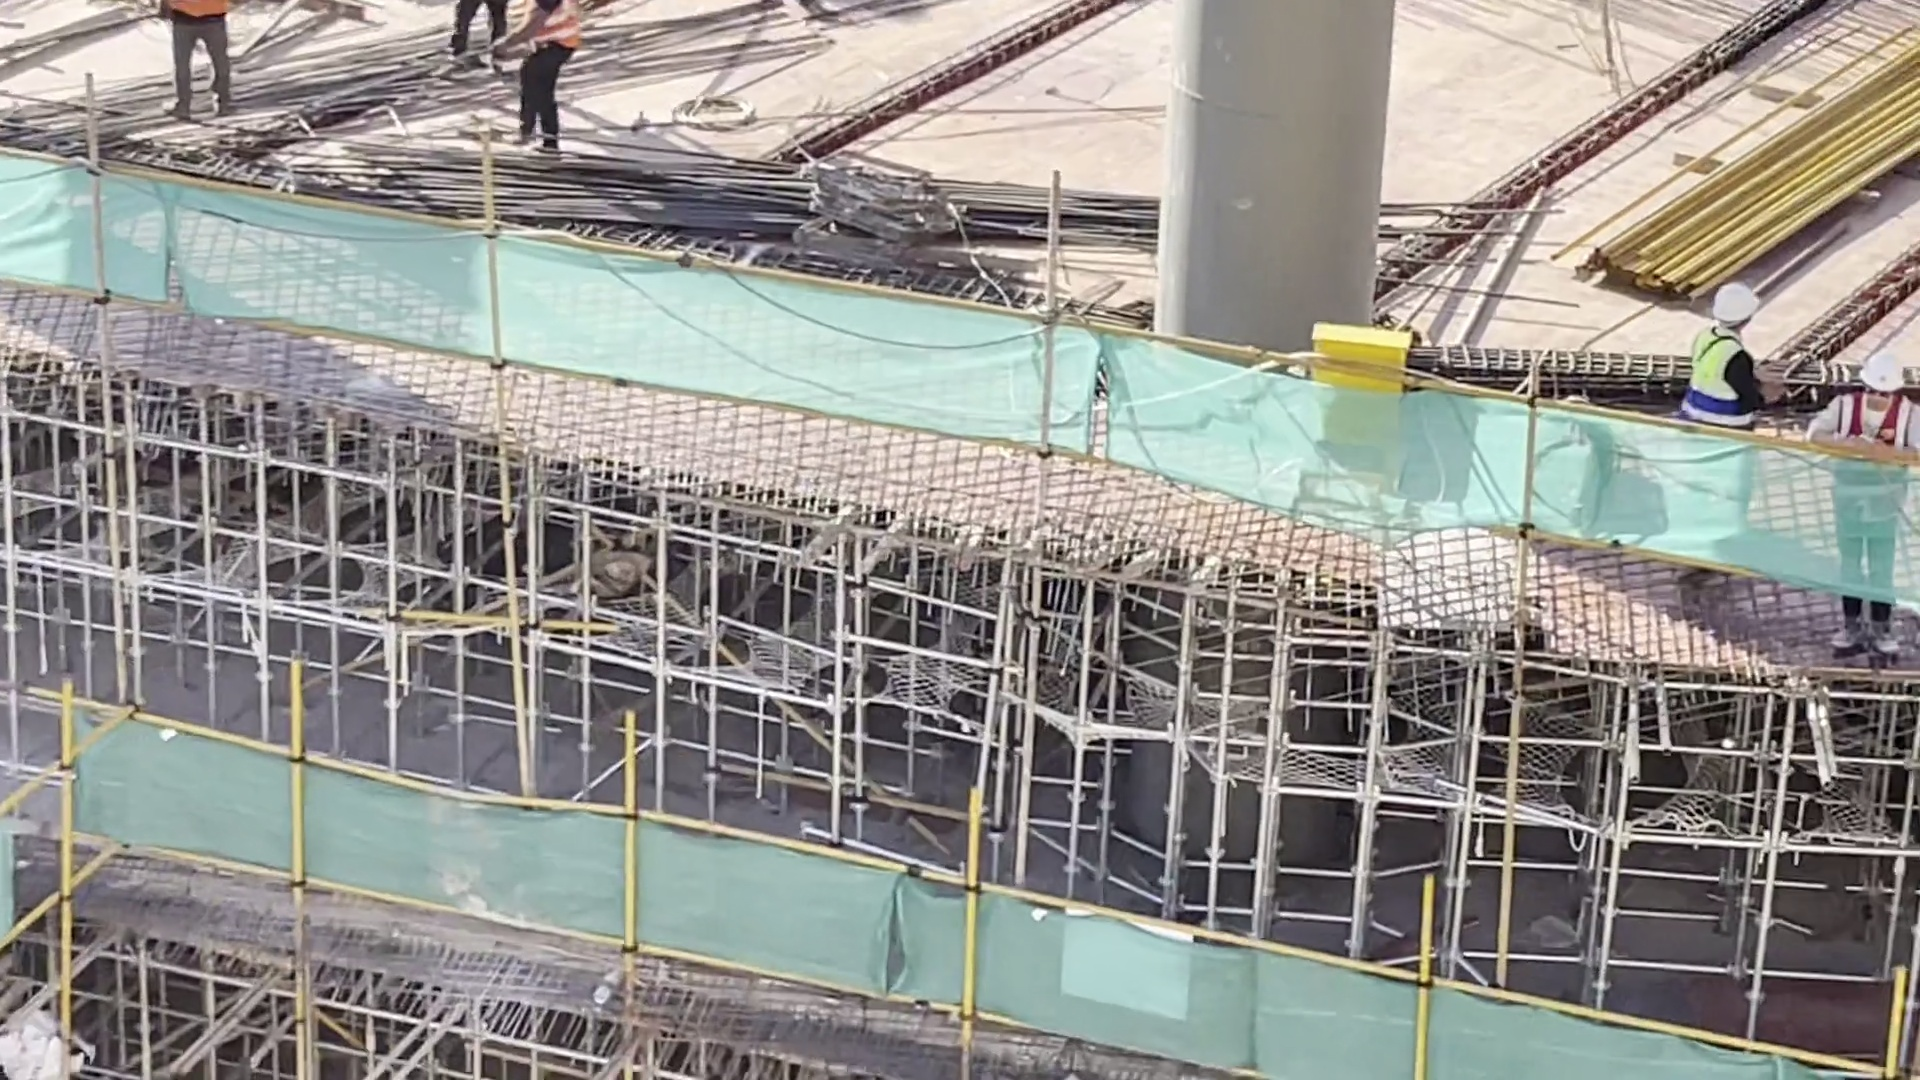helmet: (1709, 278, 1760, 324), (1861, 356, 1904, 400)
person: (1820, 335, 1914, 689), (1681, 286, 1762, 583), (155, 1, 261, 120), (512, 1, 585, 148)
vest: (1683, 322, 1757, 434), (1839, 392, 1905, 504), (524, 1, 583, 57)
